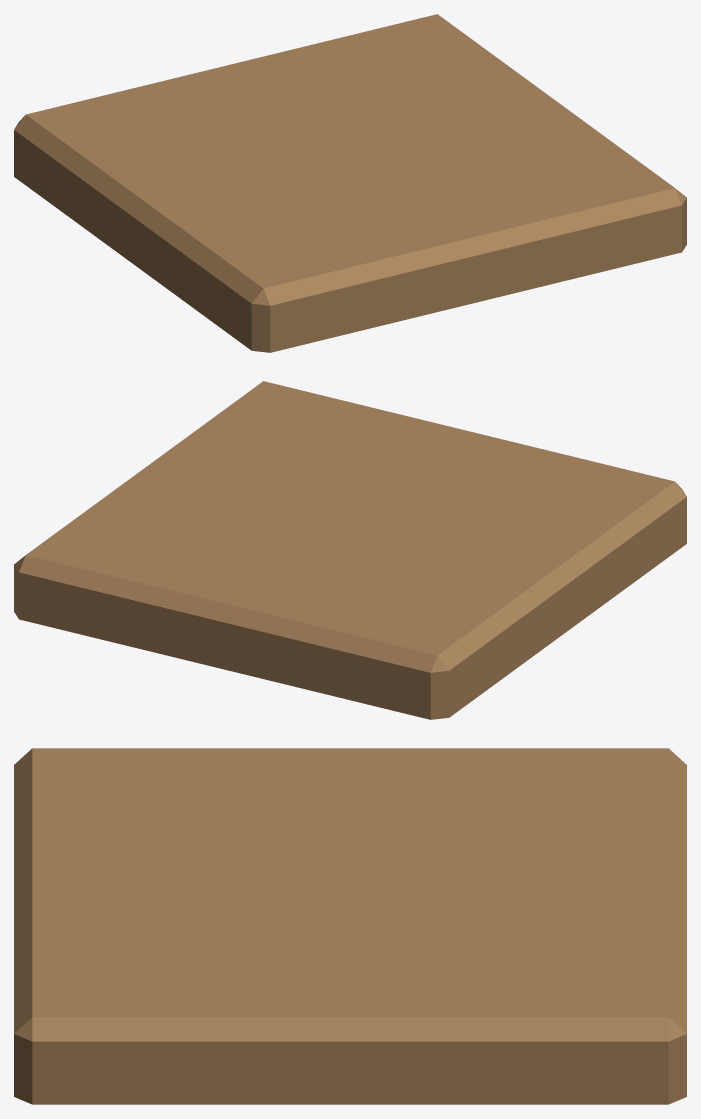
The model's file is tile.glb.
The picture shows the model from 3 angles, top to bottom: view 1: azimuth 30°, elevation 25°; view 2: azimuth 150°, elevation 25°; view 3: azimuth 270°, elevation 25°; orthographic projection. The views are drawn at different scales.
Visible parts, largest first — view 1: tile; view 2: tile; view 3: tile.
Part boxes in pixels (x1,y1,x2,y2): tile: (14,14,686,352); tile: (14,381,686,719); tile: (14,748,686,1104).
Bounding box in the file's own units: 0.92 × 0.12 × 0.92.
